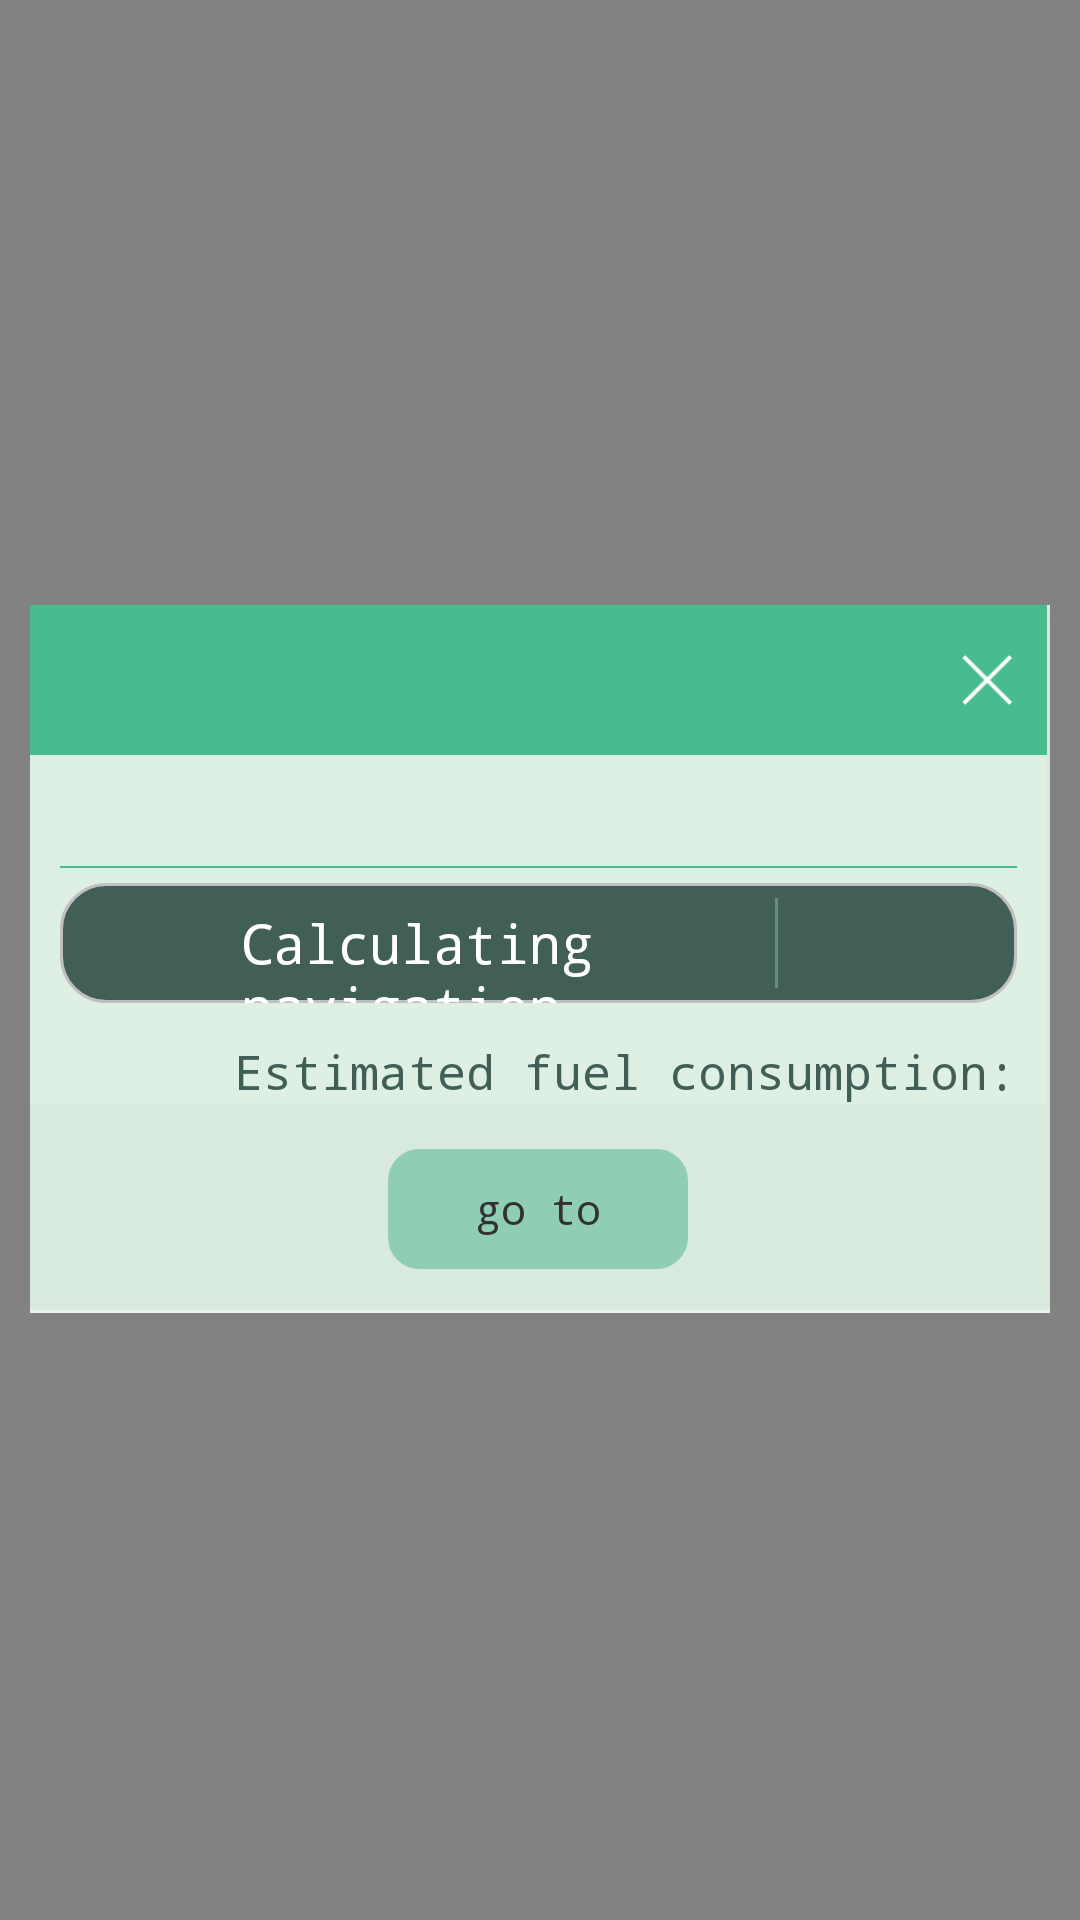

Point at icon controls on the screen. Image size 1080×1920, points as (x,y).
cancle: (987,680)
